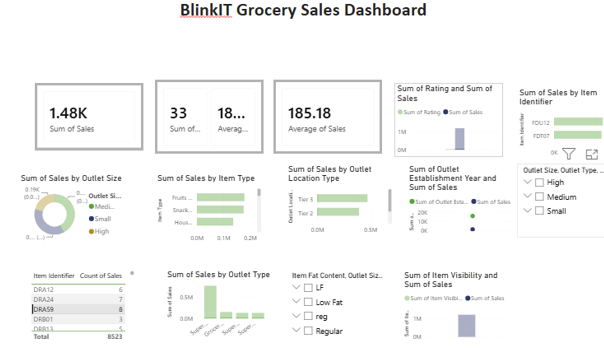

Layout of this report page (visuals, bound fields, positions):
{"tool":"powerbi","page":{"name":"Page 1","canvas":[1280,720],"ordinal":0},"visuals":[{"type":"cardVisual","fields":{"Data":["Sum(BlinkIT-Grocery-Data.Sales)"]},"box":[83.3,178.3,220,136.7],"z":0},{"type":"cardVisual","fields":{"Data":["Avg(BlinkIT-Grocery-Data.Sales)"]},"box":[566.7,171.7,220,150],"z":1000},{"type":"tableEx","fields":{"Values":["BlinkIT-Grocery-Data.Item Identifier","CountNonNull(BlinkIT-Grocery-Data.Sales)"]},"box":[70,553.3,220,151.7],"z":2000},{"type":"cardVisual","fields":{"Data":["Sum(BlinkIT-Grocery-Data.Rating)","Avg(BlinkIT-Grocery-Data.Sales)"]},"box":[326.7,171.7,220,150],"z":3000},{"type":"clusteredBarChart","fields":{"Category":["BlinkIT-Grocery-Data.Item Type"],"Y":["Sum(BlinkIT-Grocery-Data.Sales)"]},"box":[326.7,360,220,150],"z":4000},{"type":"clusteredColumnChart","fields":{"Category":["BlinkIT-Grocery-Data.Outlet Type"],"Y":["Sum(BlinkIT-Grocery-Data.Sales)"]},"box":[346.7,555,220,150],"z":5000},{"type":"donutChart","fields":{"Category":["BlinkIT-Grocery-Data.Outlet Size"],"Y":["Sum(BlinkIT-Grocery-Data.Sales)"]},"box":[50,360,220,150],"z":6000},{"type":"clusteredBarChart","fields":{"Category":["BlinkIT-Grocery-Data.Outlet Location Type"],"Y":["Sum(BlinkIT-Grocery-Data.Sales)"]},"box":[591.7,341.7,220,151.7],"z":7000},{"type":"slicer","fields":{"Values":["BlinkIT-Grocery-Data.Item Fat Content","BlinkIT-Grocery-Data.Outlet Size","BlinkIT-Grocery-Data.Outlet Location Type"]},"box":[591.7,555,220,151.7],"z":8000},{"type":"clusteredColumnChart","fields":{"Y":["Sum(BlinkIT-Grocery-Data.Rating)","Sum(BlinkIT-Grocery-Data.Sales)"]},"box":[811.7,178.3,220,150],"z":9000},{"type":"lineChart","fields":{"Y":["Sum(BlinkIT-Grocery-Data.Outlet Establishment Year)","Sum(BlinkIT-Grocery-Data.Sales)"]},"box":[836.7,341.7,220,150],"z":10000},{"type":"columnChart","fields":{"Y":["Sum(BlinkIT-Grocery-Data.Item Visibility)","Sum(BlinkIT-Grocery-Data.Sales)"]},"box":[826.7,556.7,220,150],"z":10001},{"type":"clusteredBarChart","fields":{"Category":["BlinkIT-Grocery-Data.Item Identifier"],"Y":["Sum(BlinkIT-Grocery-Data.Sales)"]},"box":[1060,186.7,220,150],"z":10002},{"type":"textbox","box":[0,0,1255,85],"z":10003},{"type":"slicer","fields":{"Values":["BlinkIT-Grocery-Data.Outlet Size","BlinkIT-Grocery-Data.Outlet Type","BlinkIT-Grocery-Data.Outlet Location Type"]},"box":[1060,342,220,150],"z":10004}]}

Visuals, with their boxes in screenshot pixels (x1, y1, x2, y2), scaled from the page's 1280x720 canvas onto the 604x348 screenshot:
cardVisual - Sum(BlinkIT-Grocery-Data.Sales): (39,86,143,152)
cardVisual - Avg(BlinkIT-Grocery-Data.Sales): (267,83,371,155)
tableEx - BlinkIT-Grocery-Data.Item Identifier x CountNonNull(BlinkIT-Grocery-Data.Sales): (33,267,137,341)
cardVisual - Sum(BlinkIT-Grocery-Data.Rating) x Avg(BlinkIT-Grocery-Data.Sales): (154,83,258,155)
clusteredBarChart - BlinkIT-Grocery-Data.Item Type x Sum(BlinkIT-Grocery-Data.Sales): (154,174,258,246)
clusteredColumnChart - BlinkIT-Grocery-Data.Outlet Type x Sum(BlinkIT-Grocery-Data.Sales): (164,268,267,341)
donutChart - BlinkIT-Grocery-Data.Outlet Size x Sum(BlinkIT-Grocery-Data.Sales): (24,174,127,246)
clusteredBarChart - BlinkIT-Grocery-Data.Outlet Location Type x Sum(BlinkIT-Grocery-Data.Sales): (279,165,383,238)
slicer - BlinkIT-Grocery-Data.Item Fat Content x BlinkIT-Grocery-Data.Outlet Size: (279,268,383,342)
clusteredColumnChart - Sum(BlinkIT-Grocery-Data.Rating) x Sum(BlinkIT-Grocery-Data.Sales): (383,86,487,159)
lineChart - Sum(BlinkIT-Grocery-Data.Outlet Establishment Year) x Sum(BlinkIT-Grocery-Data.Sales): (395,165,499,238)
columnChart - Sum(BlinkIT-Grocery-Data.Item Visibility) x Sum(BlinkIT-Grocery-Data.Sales): (390,269,494,342)
clusteredBarChart - BlinkIT-Grocery-Data.Item Identifier x Sum(BlinkIT-Grocery-Data.Sales): (500,90,603,163)
textbox: (0,0,592,41)
slicer - BlinkIT-Grocery-Data.Outlet Size x BlinkIT-Grocery-Data.Outlet Type: (500,165,603,238)
